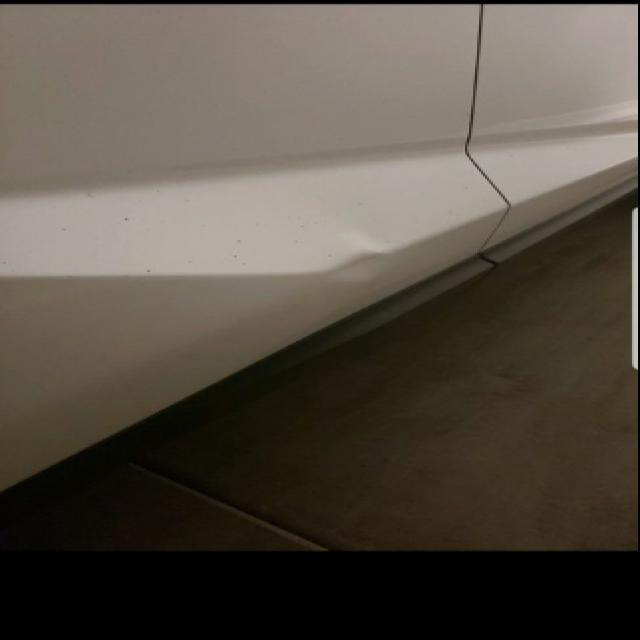dents: (319, 233, 422, 297)
